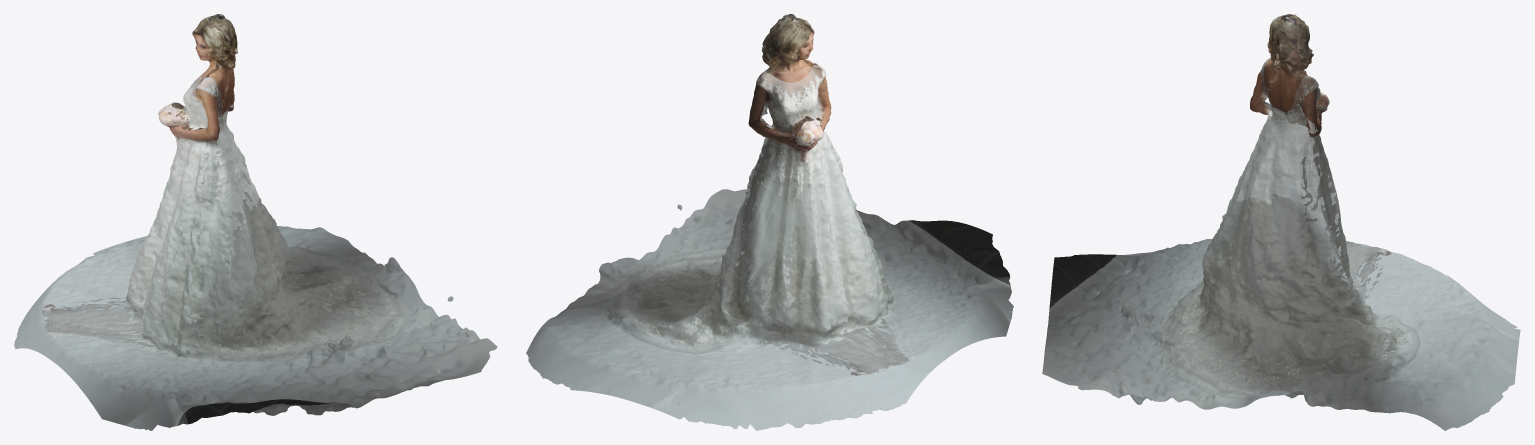
The model's file is codauglb.glb.
3 views of the same model, side by side, from view 1: azimuth 30°, elevation 25°; view 2: azimuth 150°, elevation 25°; view 3: azimuth 270°, elevation 25° (orthographic). The views are drawn at different scales.
Parts seen in each view (by area): view 1: Object_2; view 2: Object_2; view 3: Object_2.
Boxes of the visible parts, bbox=[...] form: Object_2: bbox=[14, 14, 497, 430]; Object_2: bbox=[526, 14, 1013, 430]; Object_2: bbox=[1042, 14, 1520, 430].
Bounding box in the file's own units: 7.28 × 6.49 × 8.63.
Materials: 1 (1 with a texture image).
